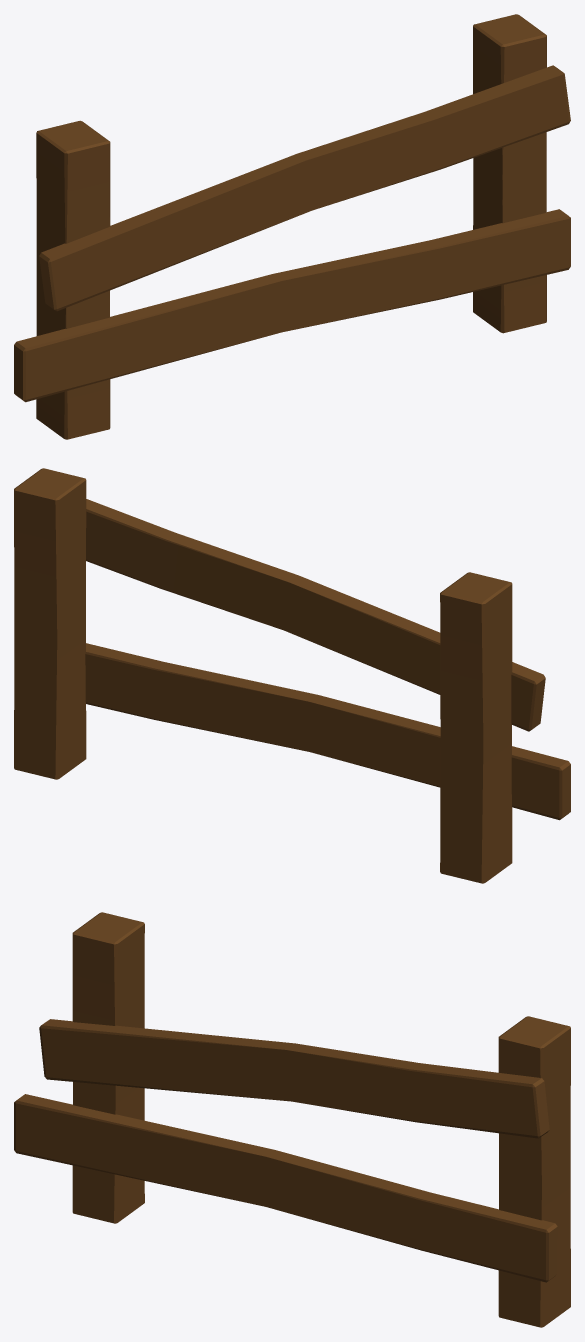
File: Valla2.fbx
3 renders of one model, top to bottom at view 1: azimuth 30°, elevation 25°; view 2: azimuth 150°, elevation 25°; view 3: azimuth 330°, elevation 25°, orthographic. The views are drawn at different scales.
Visible parts, largest first — view 1: Valla2; view 2: Valla2; view 3: Valla2.
Boxes of the visible parts, x1,y1,x2,y2 form: Valla2: (14,14,570,439); Valla2: (14,468,570,883); Valla2: (14,912,570,1327).
Bounding box in the file's own units: 1.18 × 0.595 × 0.1622.
